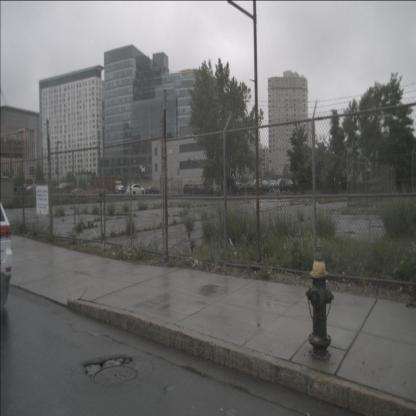vehicle-car: (69, 189, 91, 200), (126, 184, 146, 196), (196, 183, 214, 195), (280, 180, 296, 192), (183, 184, 200, 195), (145, 186, 162, 194), (56, 182, 71, 191), (262, 181, 274, 192), (63, 183, 78, 191), (276, 179, 284, 188), (269, 180, 277, 188)
vehicle-truck: (115, 181, 124, 194)
